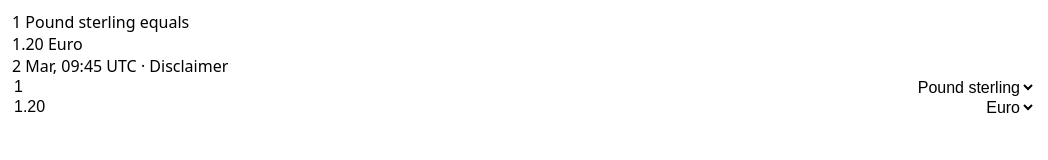
Test: ConversionLayout functional behaviour › updates conversion when to currency changes
Select "US Dollar" in the dropdown labelled "To currency": (750, 107) [464,98,1036,117]
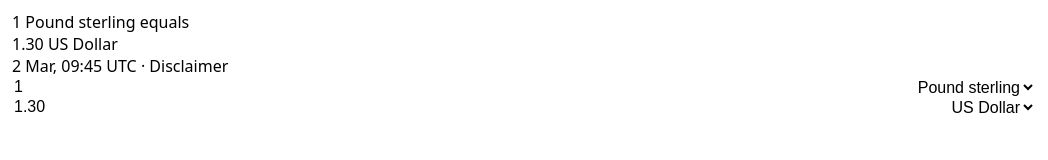
Now the text "1.30 US Dollar" is shown, box [12,33,118,55]
